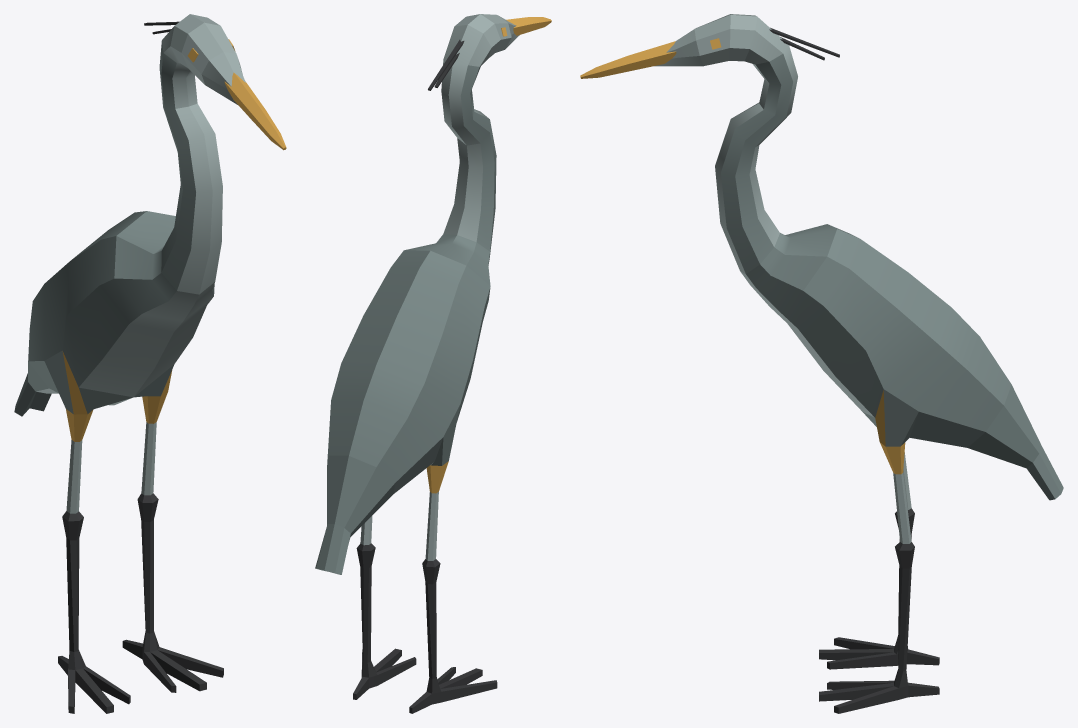
File: Mesh_Heron.obj
3 renders of one model, left to right at view 1: azimuth 30°, elevation 25°; view 2: azimuth 150°, elevation 25°; view 3: azimuth 270°, elevation 25°, orthographic. The views are drawn at different scales.
Visible parts, largest first — view 1: Geo_Heron; view 2: Geo_Heron; view 3: Geo_Heron.
Part boxes in pixels (x1,y1,x2,y2): Geo_Heron: (14, 14, 286, 713); Geo_Heron: (315, 14, 551, 713); Geo_Heron: (580, 14, 1063, 713).
Size of the model in its own units: 40.27 by 177 by 117.
Materials: 1 (1 with a texture image).
